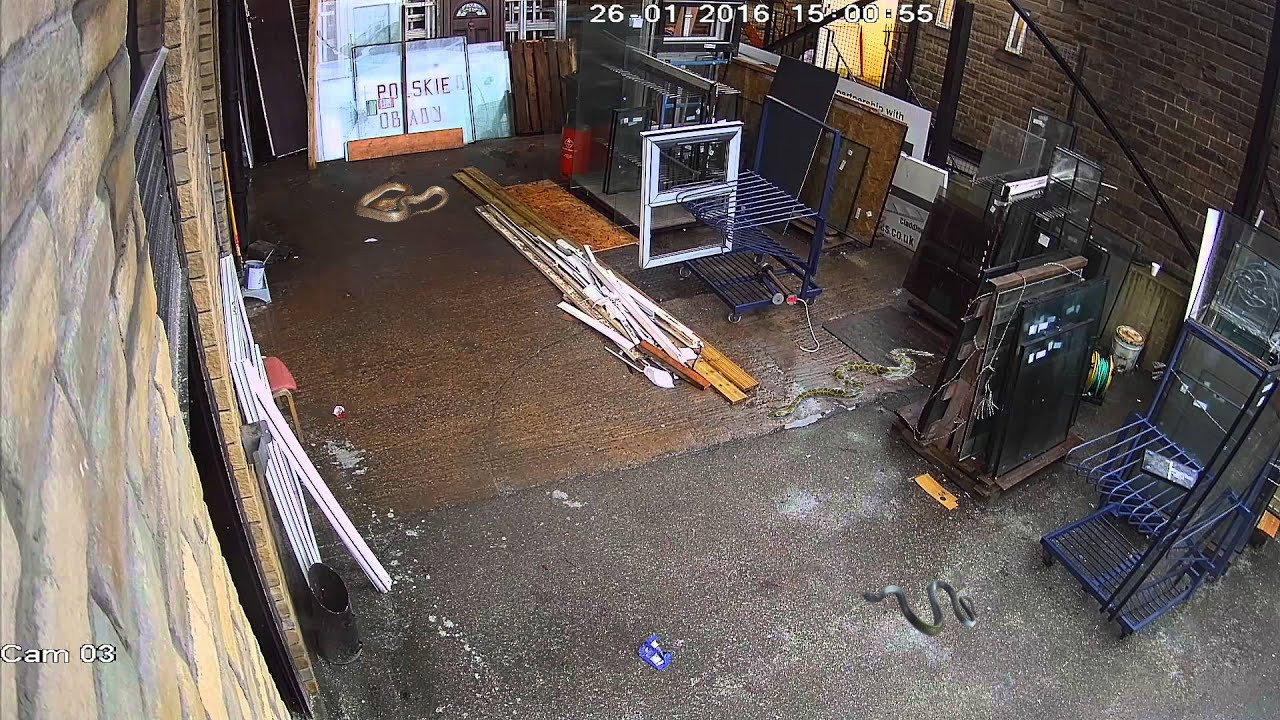snake: (764, 340, 937, 422), (859, 574, 981, 640), (347, 178, 450, 223)
